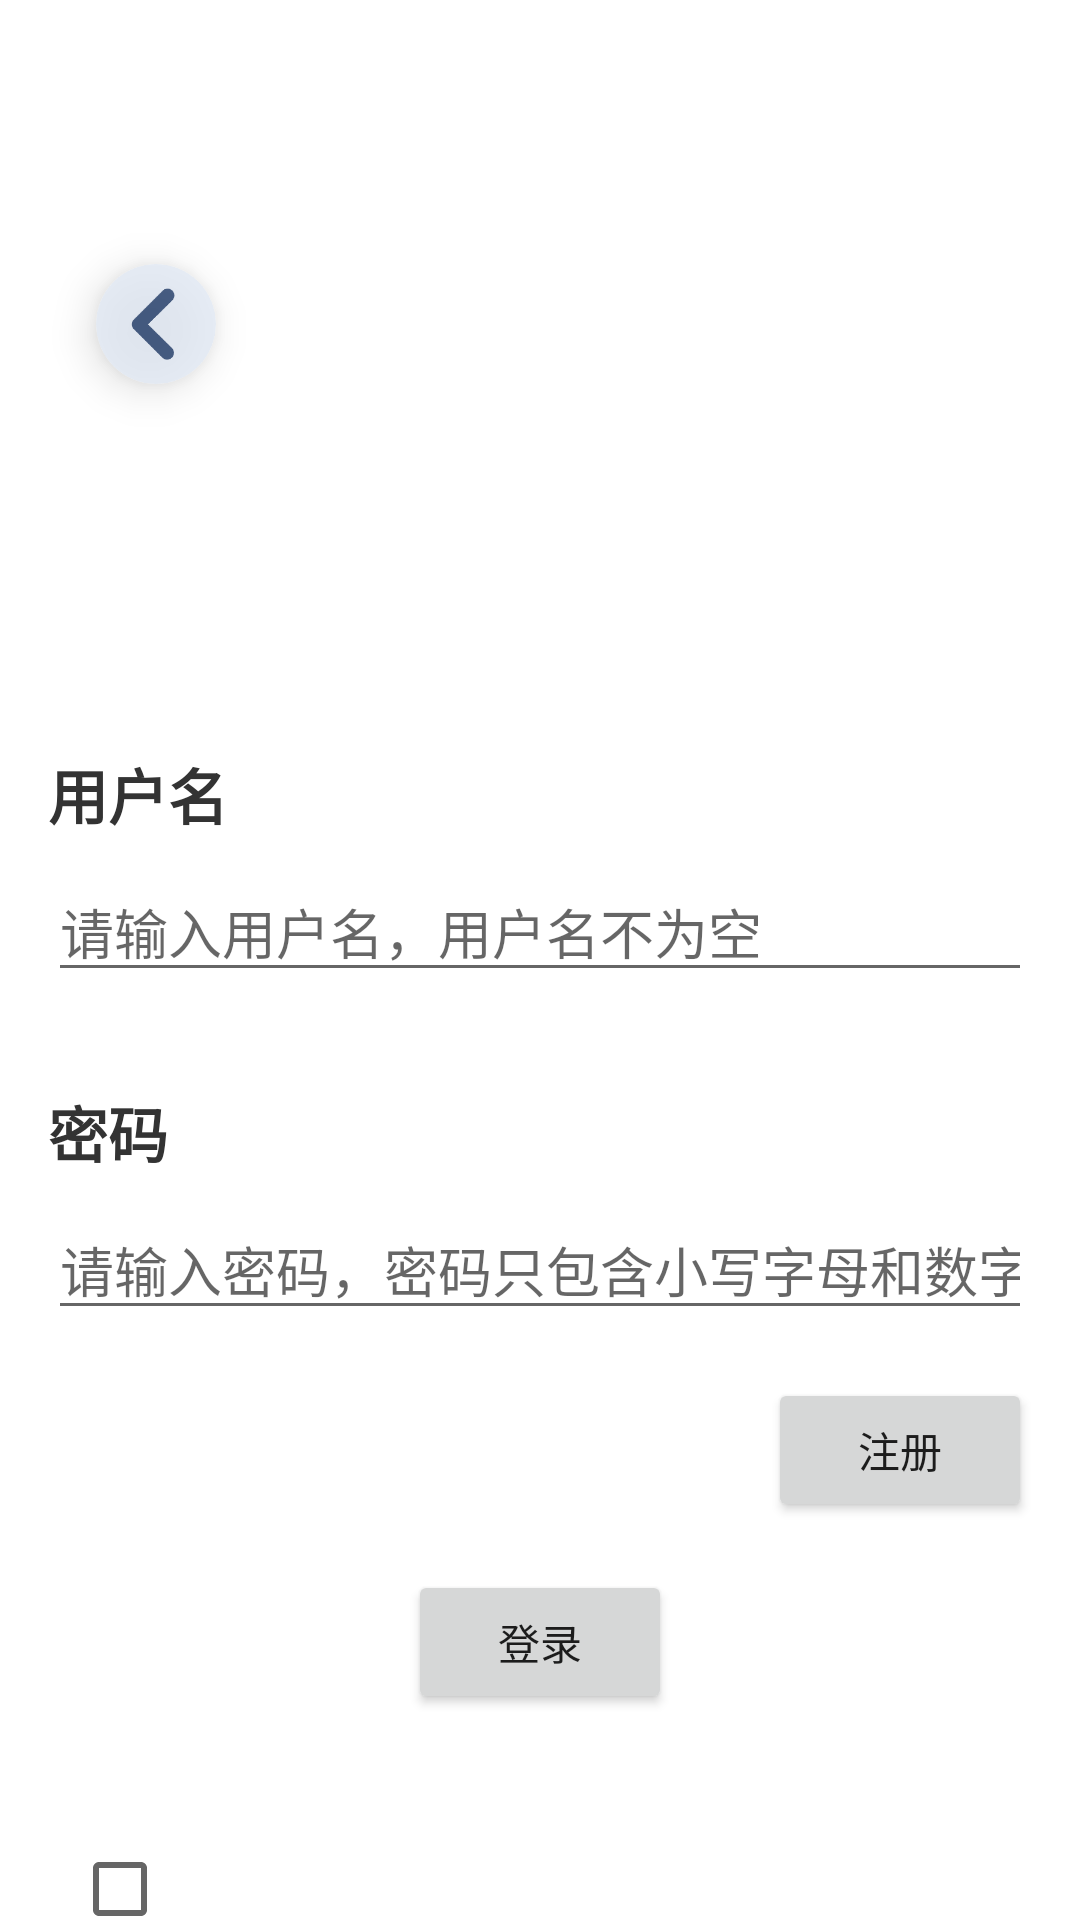

Icon bounding boxes for this 1080px×1920px phone screenshot, format rect(x1, y1, x2, y2):
backbutton: rect(101, 281, 198, 378)
